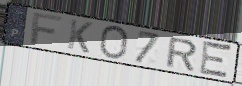7: (134, 30, 162, 65)
E: (197, 38, 234, 81)
F: (29, 11, 63, 46)
K: (66, 17, 94, 55)
O: (98, 25, 130, 60)
R: (164, 36, 199, 72)
